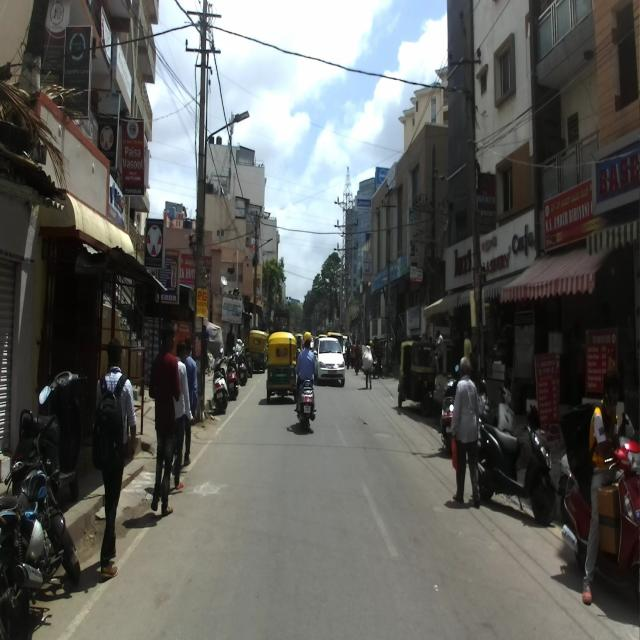Car_TATA: (314, 334, 346, 386)
motorcycle_bajaj: (0, 413, 80, 639)
scooter: (561, 441, 640, 600), (476, 402, 558, 523), (12, 370, 86, 500), (556, 412, 635, 524), (294, 358, 318, 430), (212, 346, 230, 411)
